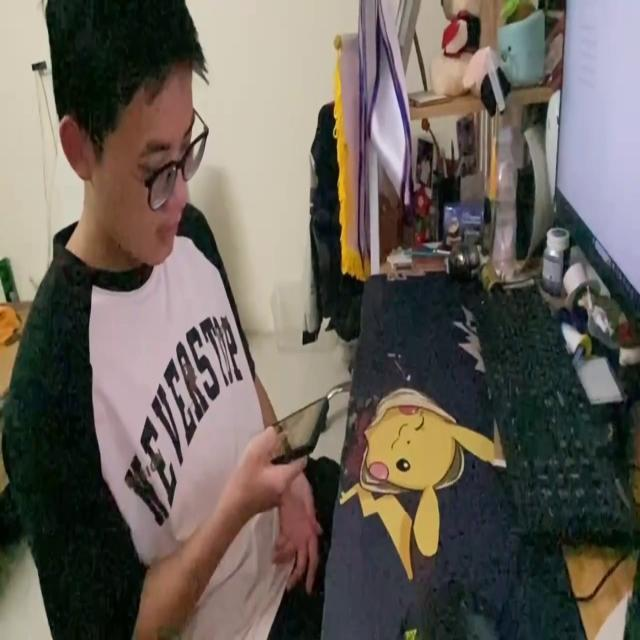laptop: (553, 0, 640, 340)
phone: (261, 390, 331, 464)
student: (6, 0, 335, 640)
